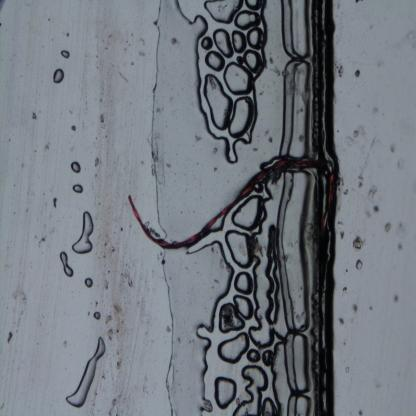Air bubble: (147, 243, 232, 416), (139, 0, 212, 162), (249, 221, 290, 353), (277, 53, 312, 155), (65, 336, 106, 409), (278, 0, 314, 60), (202, 70, 235, 130), (233, 364, 270, 416), (284, 328, 312, 395), (230, 193, 270, 234), (220, 227, 257, 271), (271, 338, 290, 416), (228, 94, 259, 141), (223, 59, 258, 93), (216, 330, 251, 364), (70, 210, 96, 255), (216, 302, 246, 336), (212, 374, 240, 410), (204, 0, 244, 25), (212, 26, 235, 61), (232, 7, 262, 31), (285, 393, 314, 416), (244, 48, 266, 76), (206, 49, 227, 74), (233, 294, 255, 317), (232, 271, 254, 293), (245, 27, 268, 48), (230, 29, 246, 55), (60, 251, 75, 278), (243, 347, 265, 365), (261, 395, 279, 416), (262, 349, 276, 367), (243, 0, 264, 11), (51, 68, 65, 83), (201, 37, 213, 51), (71, 161, 82, 174), (72, 182, 83, 194), (59, 48, 70, 60), (84, 276, 94, 288), (92, 311, 102, 320)
Background material: (121, 268, 132, 287), (103, 328, 115, 342), (5, 329, 13, 344), (51, 194, 58, 209), (161, 324, 171, 334), (92, 154, 100, 166), (151, 158, 156, 176), (28, 112, 38, 120), (104, 314, 112, 323), (170, 38, 179, 46), (99, 113, 106, 123), (194, 134, 202, 142), (69, 124, 77, 132), (39, 238, 47, 246), (102, 278, 107, 290), (212, 165, 219, 173), (139, 52, 147, 57), (213, 146, 217, 155)
Cotton: (125, 151, 334, 253)
Edge of slide: (310, 0, 416, 416)
